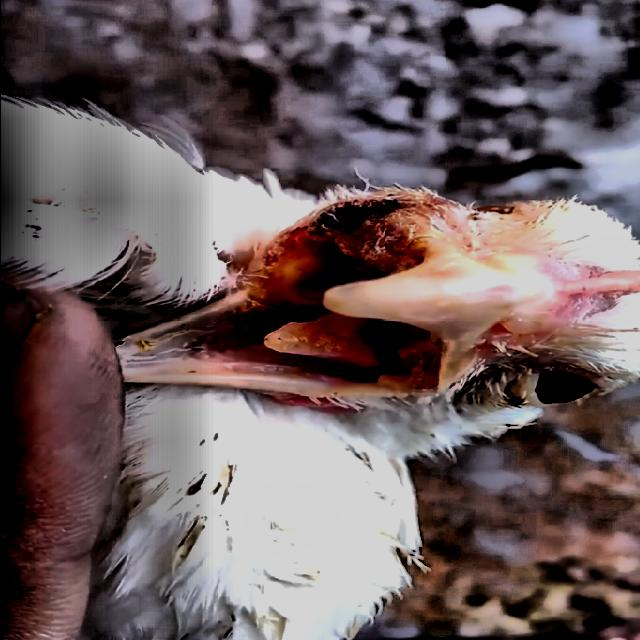Fowlpox: (224, 186, 446, 326)
